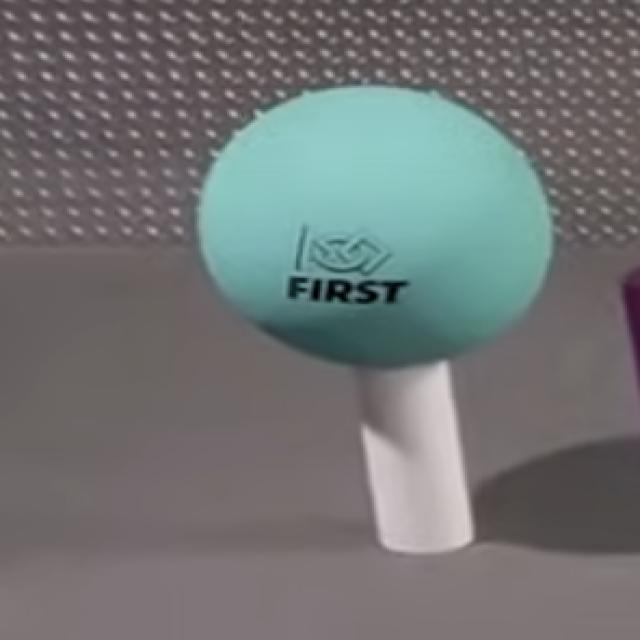Algae: (196, 86, 553, 369)
Coral: (357, 359, 474, 554)
Reef: (623, 267, 640, 388)
